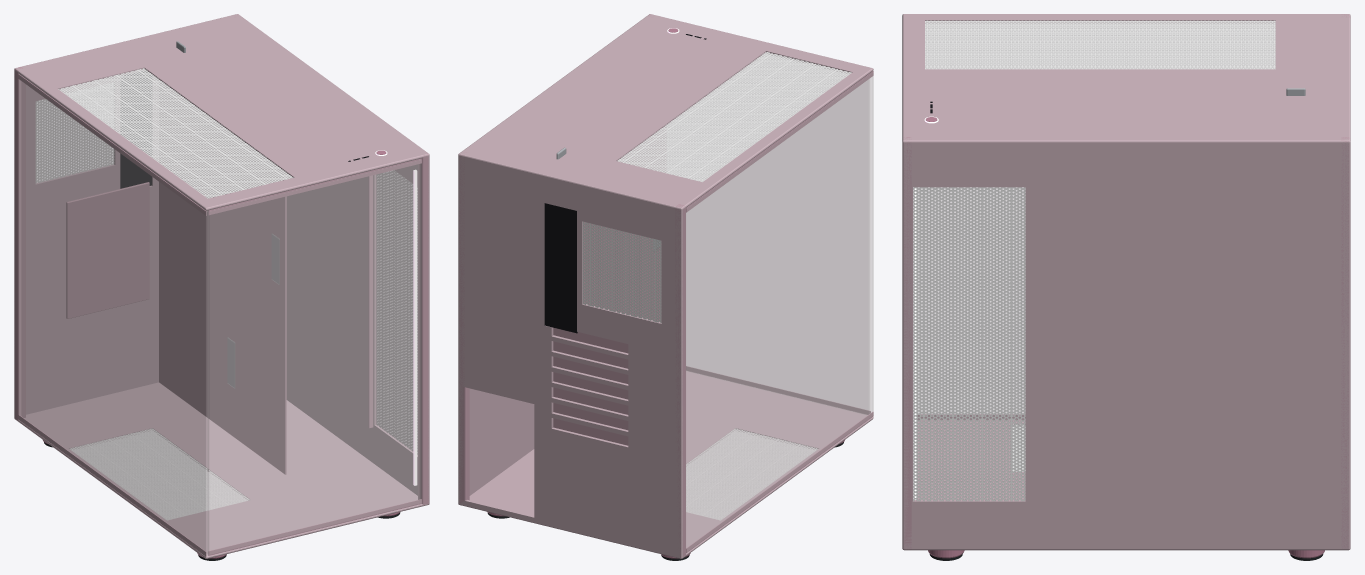
File: case-bitlab-blossom.glb
3 renders of one model, left to right at view 1: azimuth 30°, elevation 25°; view 2: azimuth 150°, elevation 25°; view 3: azimuth 270°, elevation 25°, orthographic. The views are drawn at different scales.
Visible parts, largest first — view 1: case_CaseSolid, glass_front, glass_side, case_Perforated, case_RGB; view 2: case_CaseSolid, glass_side, glass_front, case_Perforated; view 3: case_CaseSolid, case_Perforated, glass_side, case_RGB.
Part boxes in pixels (left/top/right/bottom): case_CaseSolid: left=14, top=14, right=429, bottom=560; glass_front: left=208, top=160, right=421, bottom=554; glass_side: left=19, top=76, right=208, bottom=555; case_Perforated: left=35, top=68, right=417, bottom=520; case_RGB: left=375, top=150, right=417, bottom=485; case_CaseSolid: left=458, top=14, right=873, bottom=560; glass_side: left=686, top=72, right=873, bottom=551; glass_front: left=686, top=79, right=869, bottom=414; case_Perforated: left=582, top=52, right=851, bottom=520; case_CaseSolid: left=902, top=14, right=1350, bottom=560; case_Perforated: left=913, top=20, right=1275, bottom=501; glass_side: left=918, top=42, right=1272, bottom=419; case_RGB: left=913, top=116, right=938, bottom=499.
Bounding box in the file's own units: 0.31 × 0.492 × 0.46.
Materials: 4 (1 with a texture image).
